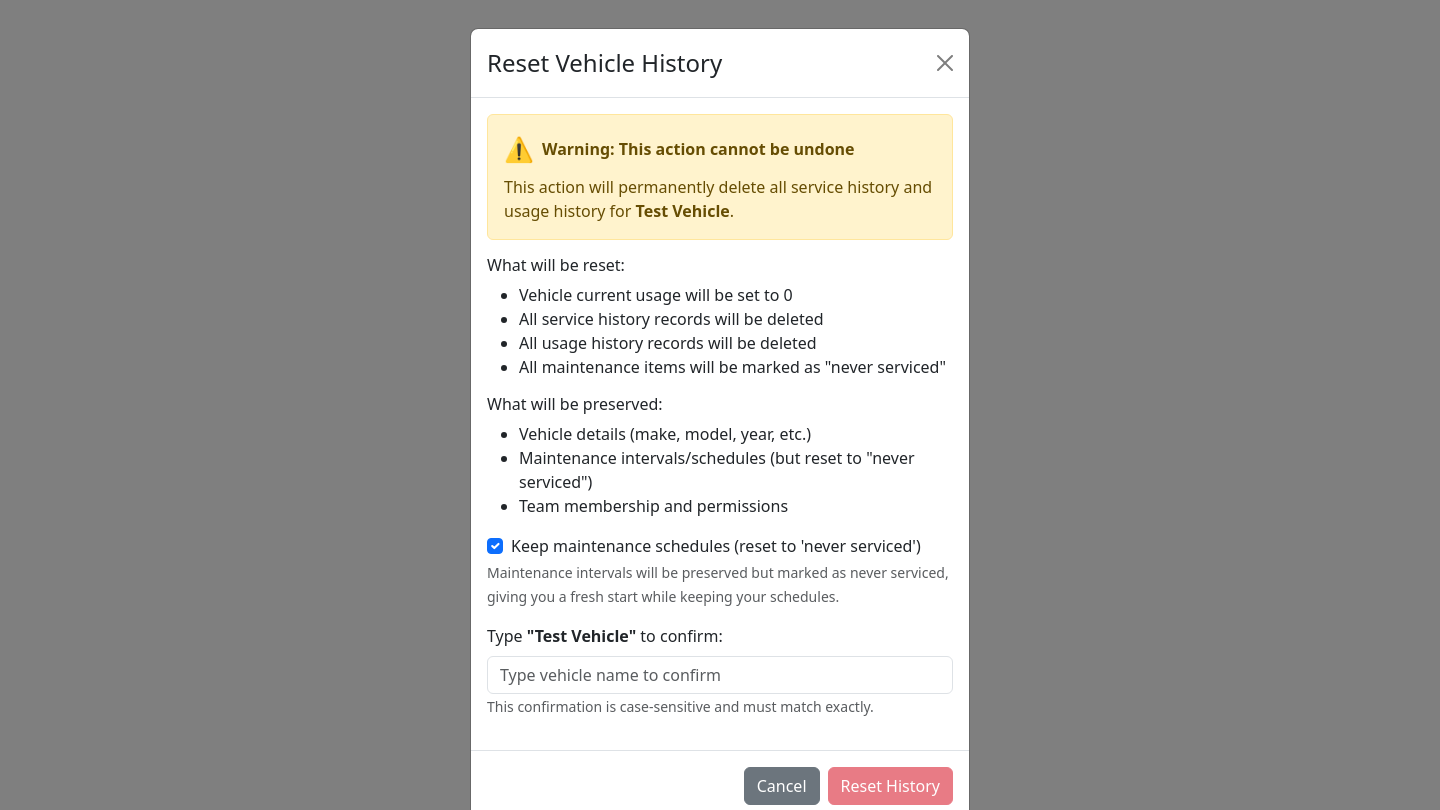
ResetVehicleHistoryModal › Reset Functionality › should disable buttons during reset
The width and height of the screenshot is (1440, 810).
Type "Test Vehicle" into the field with placeholder "Type vehicle name to confirm". click: (720, 675)
box: top-left (487, 656), bottom-right (953, 694)
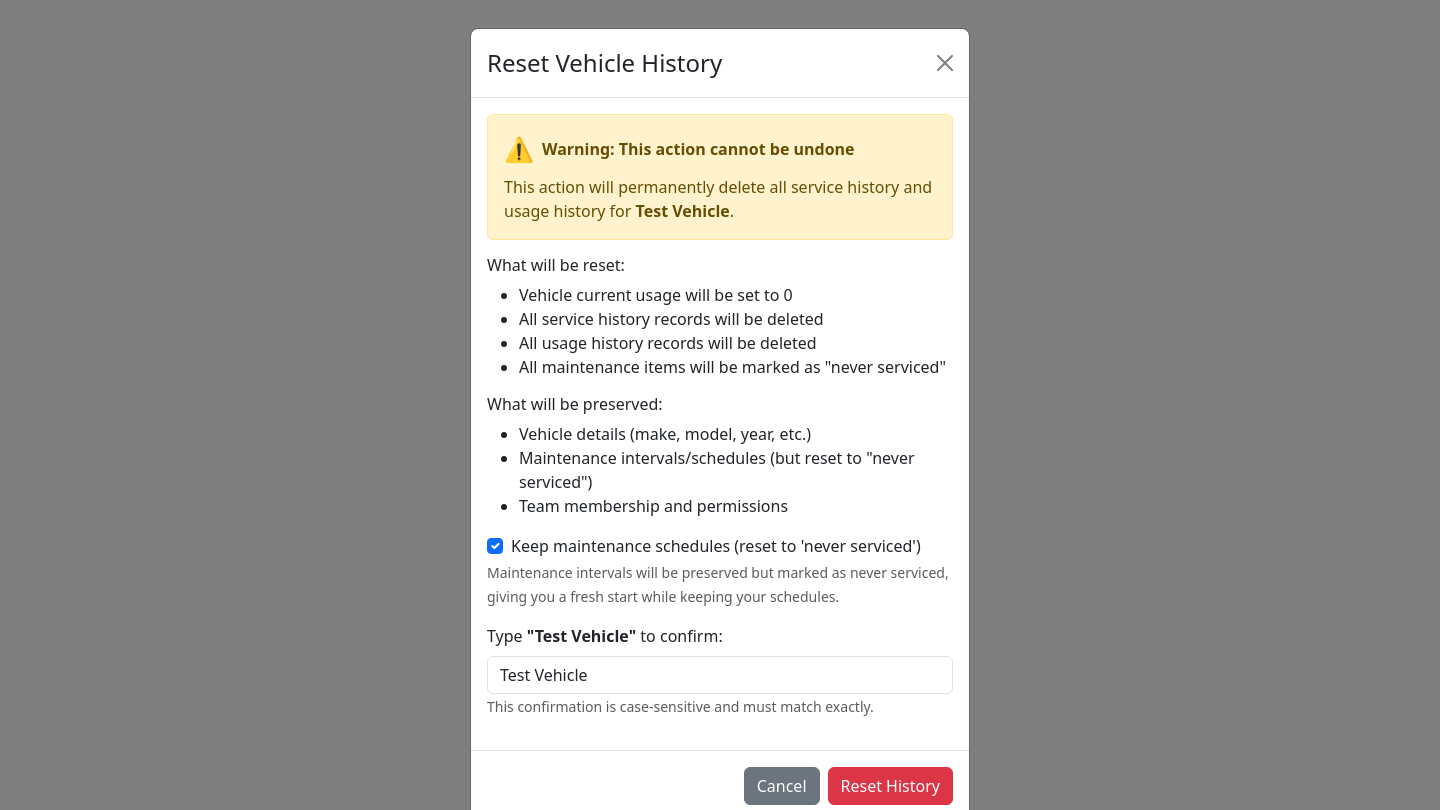
Click the button "Reset History". click: (890, 786)
box: top-left (828, 767), bottom-right (953, 805)
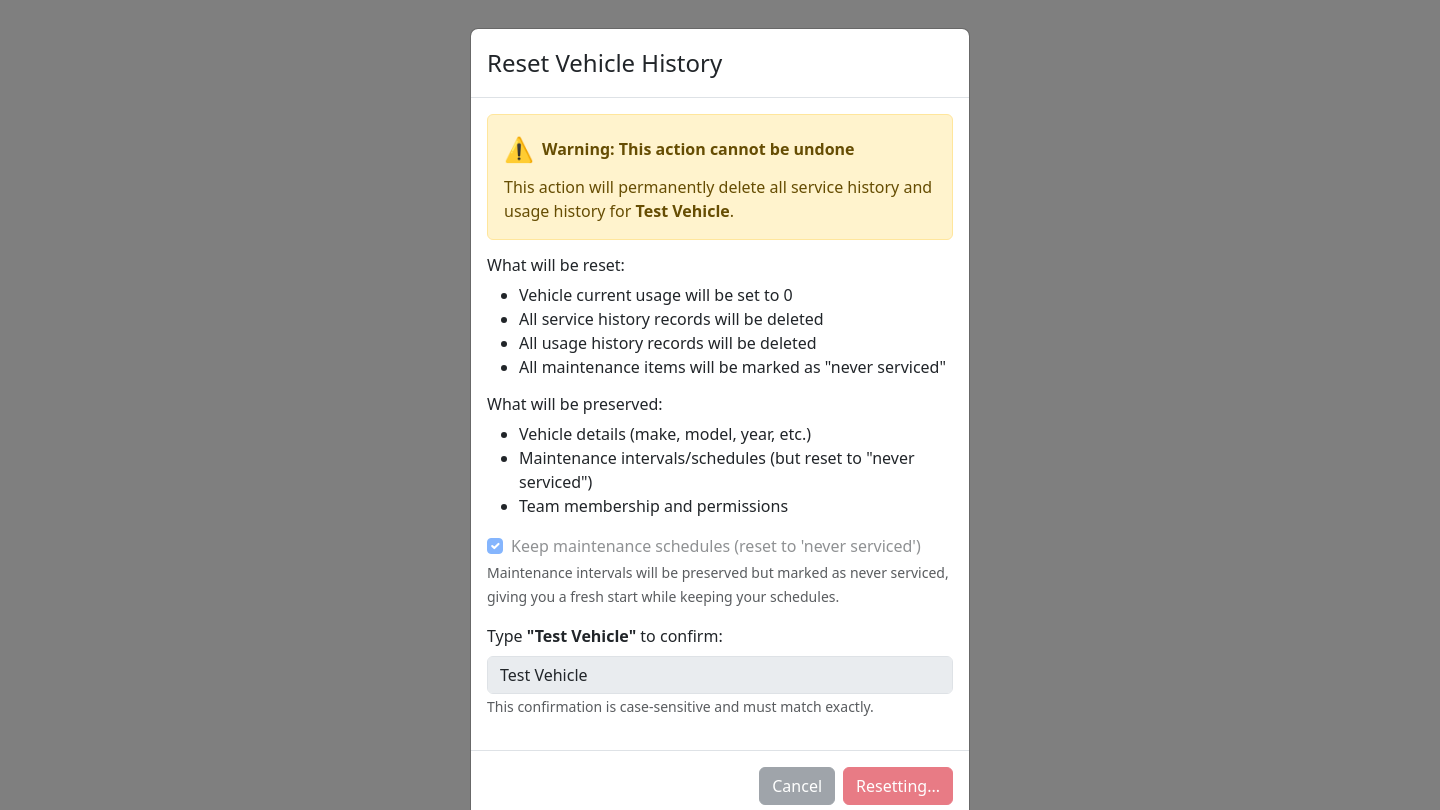
Result: the button named "reset history" is disabled at top-left (843, 767), bottom-right (953, 805)
Result: the button "Cancel" is disabled at top-left (759, 767), bottom-right (835, 805)
